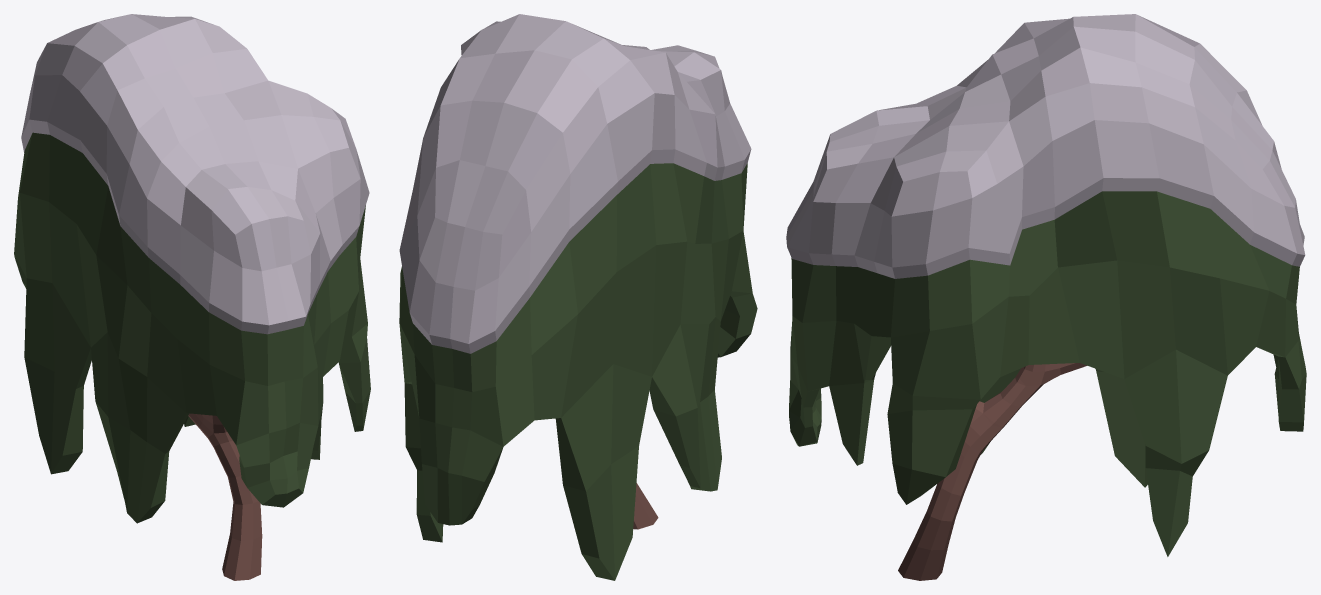
Rendered from willow_snow_1.glb.
3 renders of one model, left to right at view 1: azimuth 30°, elevation 25°; view 2: azimuth 150°, elevation 25°; view 3: azimuth 270°, elevation 25°, orthographic. The views are drawn at different scales.
Visible parts, largest first — view 1: Willow_Snow_1; view 2: Willow_Snow_1; view 3: Willow_Snow_1.
Part boxes in pixels (box(x1,y1,x2,y2)): Willow_Snow_1: box(14, 14, 370, 580); Willow_Snow_1: box(399, 14, 757, 580); Willow_Snow_1: box(786, 14, 1306, 580).
Bounding box in the file's own units: 1.45 × 2.93 × 2.57.
